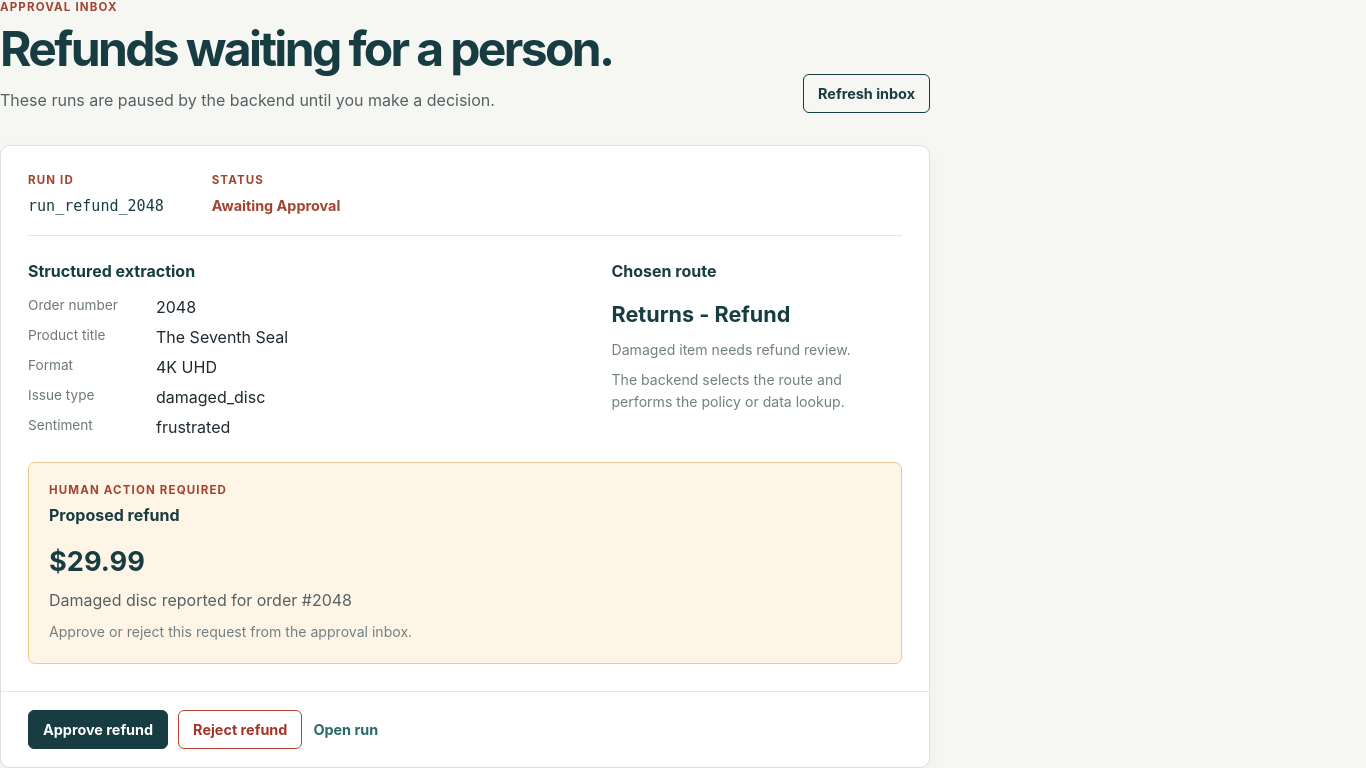
lists paused mock runs and approves one
The image size is (1366, 768).
(page scrolled)
Check: the text "run_refund_2048" is shown, box [28,197,164,215]
What coordinates should you click on to do the following:
click the button "Approve refund"
I would click on:
 (98, 730)
Its box is [28,710,168,749].
(page scrolled)
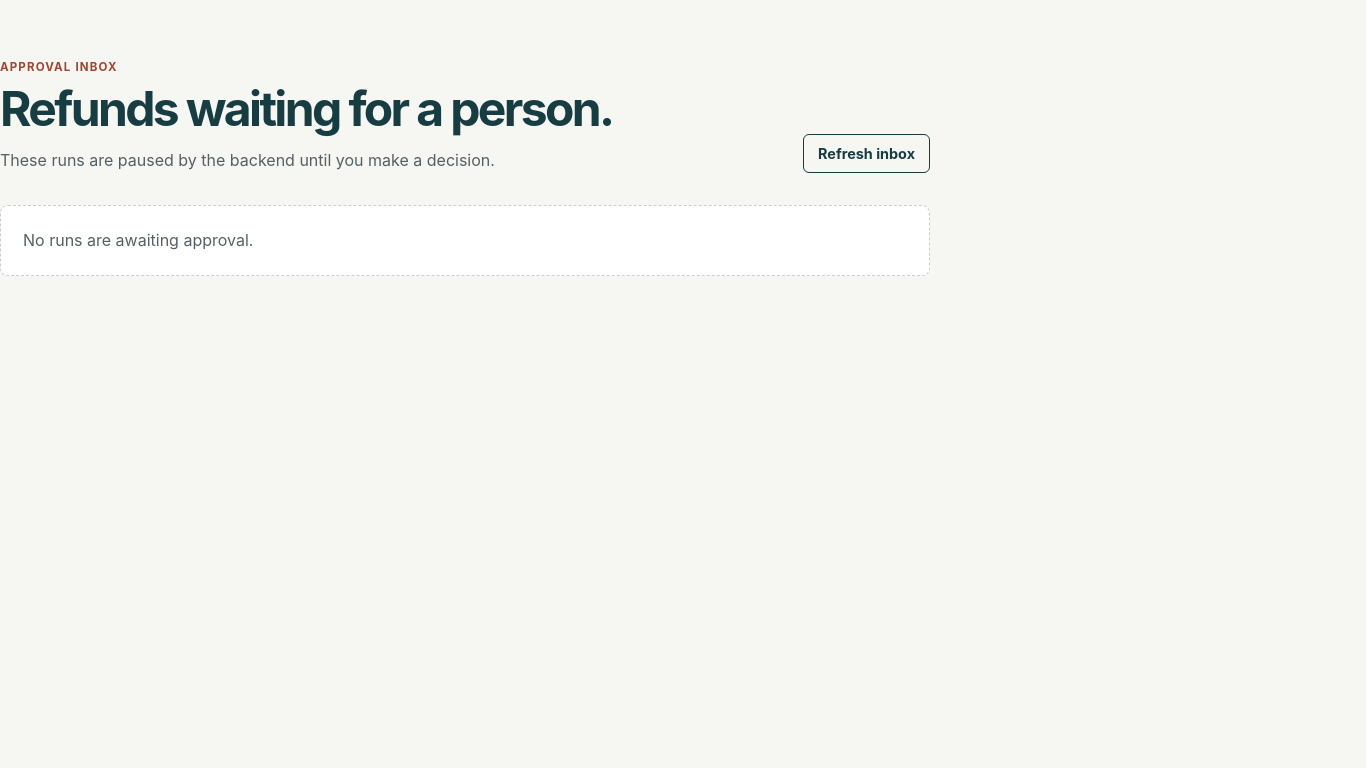
Check: the text "No runs are awaiting approval." is shown, box [0,205,930,276]
